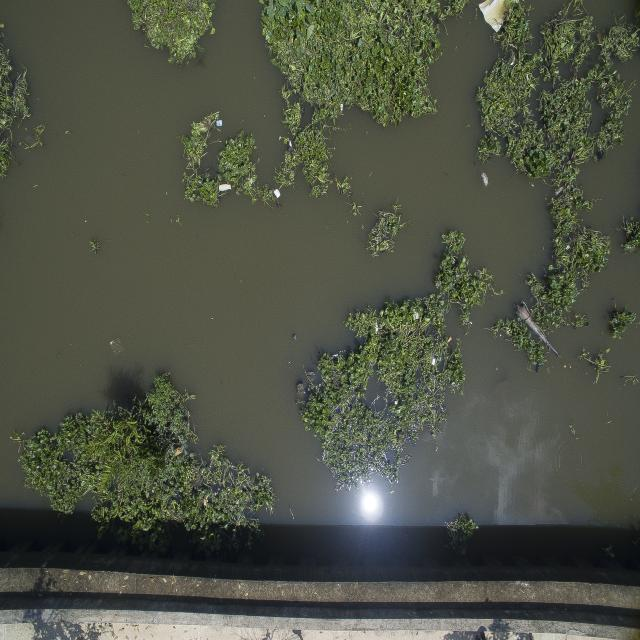plastic: (468, 0, 524, 39), (212, 110, 229, 134), (217, 182, 240, 199), (370, 316, 384, 340), (480, 168, 495, 190), (338, 99, 352, 120), (410, 307, 424, 326), (284, 137, 297, 152), (430, 353, 440, 372), (274, 186, 284, 204)
